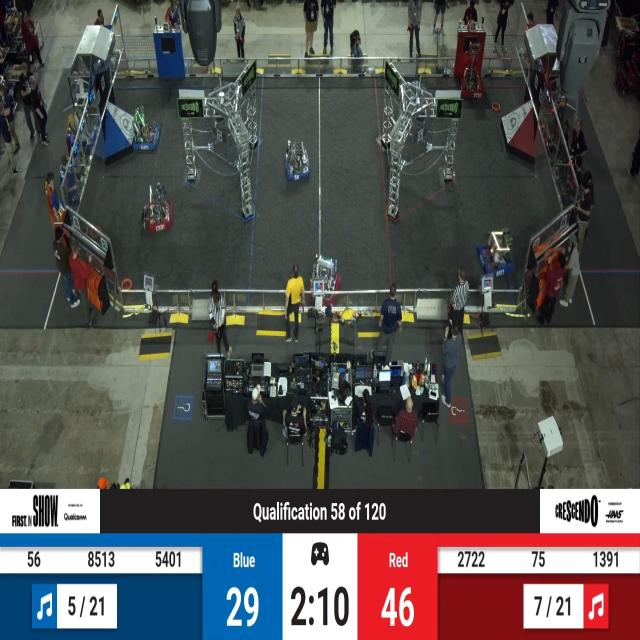Robot: (476, 219, 519, 284), (307, 244, 342, 314), (457, 25, 486, 101), (144, 180, 176, 236), (129, 104, 161, 154), (284, 136, 311, 183)
